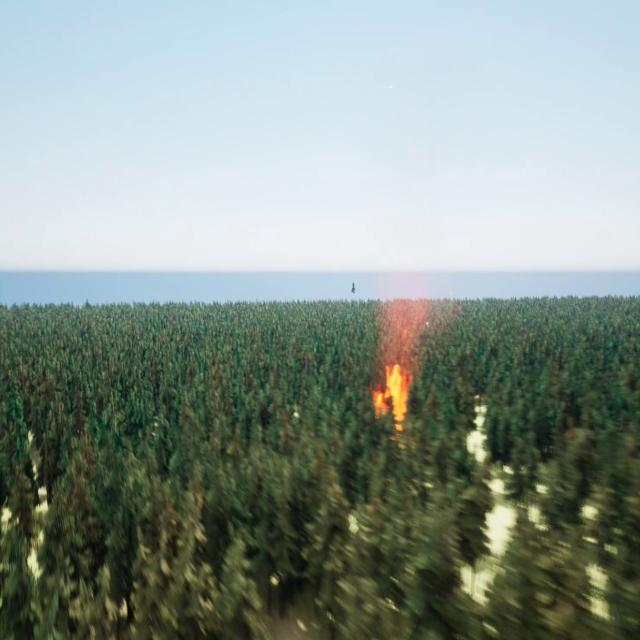fire: (372, 367, 416, 429)
smoke: (372, 270, 446, 363)
